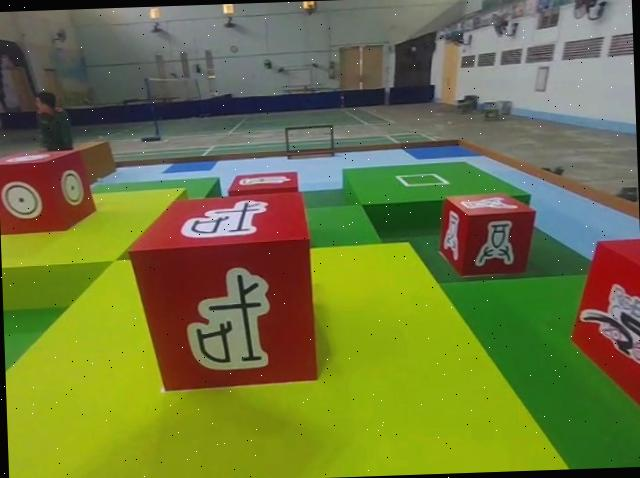R2 Real: (124, 190, 321, 396), (435, 188, 536, 280), (0, 144, 93, 238)
